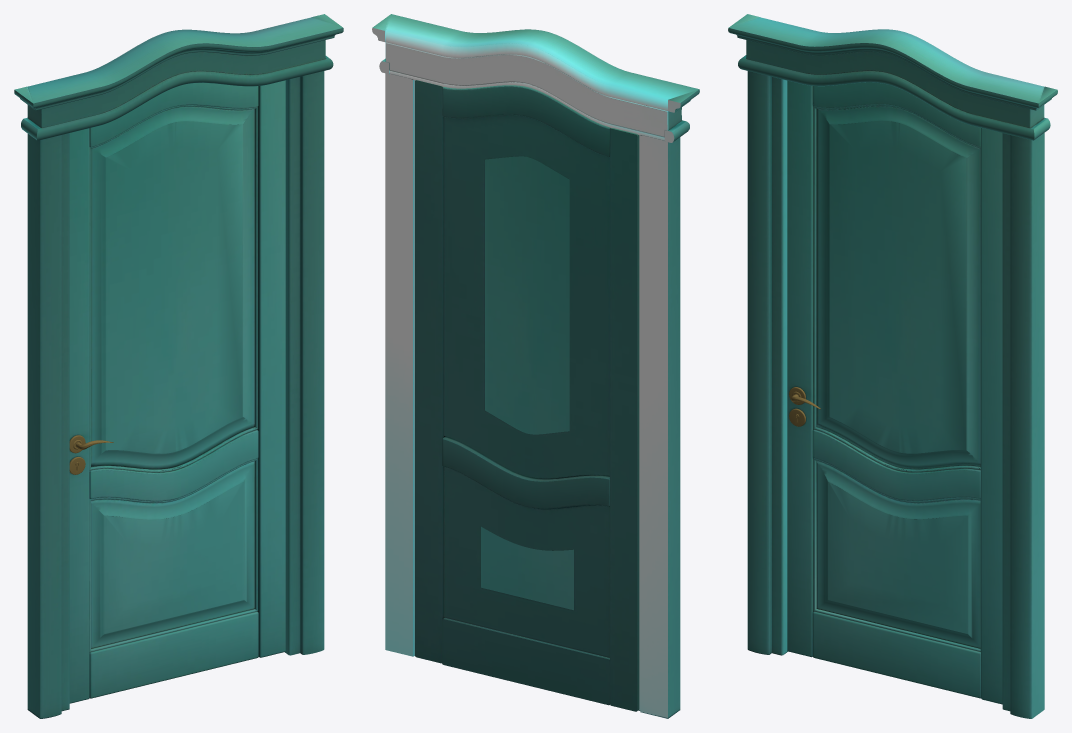
The model's file is porta-animata-2-opt.glb.
3 renders of one model, left to right at view 1: azimuth 30°, elevation 25°; view 2: azimuth 150°, elevation 25°; view 3: azimuth 330°, elevation 25°, orthographic.
Parts seen in each view (by area): view 1: Porta_, Cornice; view 2: Porta_, Cornice; view 3: Porta_, Cornice.
Boxes of the visible parts, left/top/right/bottom form: Porta_: left=69, top=80, right=285, bottom=703; Cornice: left=14, top=14, right=343, bottom=718; Porta_: left=415, top=80, right=639, bottom=711; Cornice: left=372, top=14, right=699, bottom=718; Porta_: left=787, top=80, right=1002, bottom=704; Cornice: left=728, top=14, right=1057, bottom=718.
Size of the model in its own units: 1.06 by 2.1 by 0.1184.
3 materials, 2 textured.
